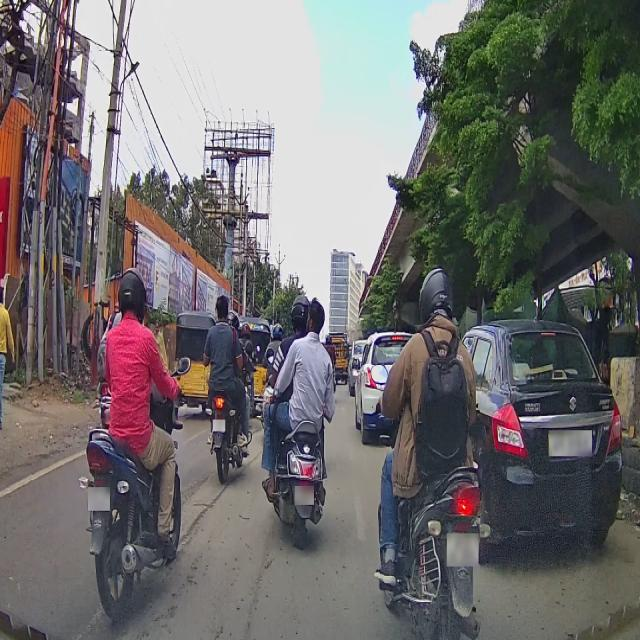car ahead at: (487, 311, 622, 544)
motorcycle ahead at: (83, 424, 182, 612), (395, 475, 484, 640), (271, 428, 330, 544), (208, 374, 252, 488)
